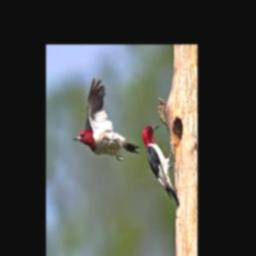Woodpecker: (73, 78, 140, 161), (141, 124, 180, 208)
